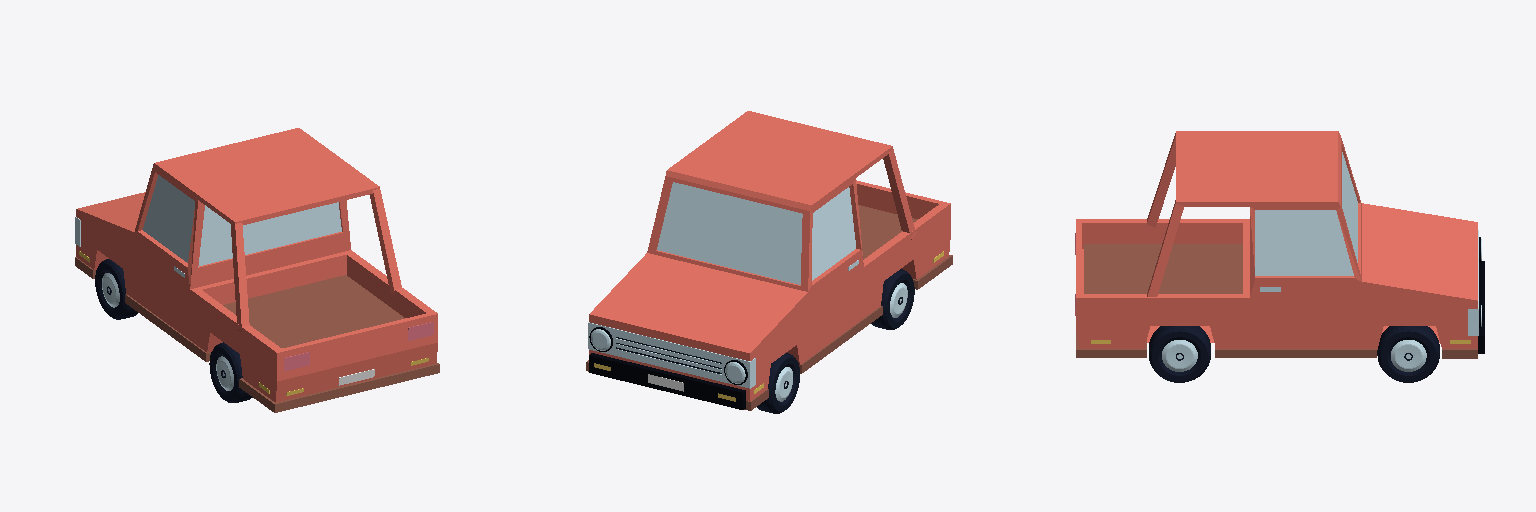
Rendered from lowpoly_car.obj.
3 renders of one model, left to right at view 1: azimuth 30°, elevation 25°; view 2: azimuth 150°, elevation 25°; view 3: azimuth 270°, elevation 25°, orthographic.
Parts seen in each view (by area): view 1: Cube_2_3_Mesh.030, Cube_Mesh.005, Cube_2_3.004_Mesh.041, Cube_2_3.001_Mesh.038, Cube_1_Mesh.004, Cube_1_2_Mesh.028, Cube_2_2_Mesh.027, Cylinder_1_2_Mesh.029, Cylinder_7_Mesh.006, Cube_2_Mesh.003; view 2: Cube_2_3_Mesh.030, Cube_2_3.002_Mesh.039, Cube_3_2_Mesh.026, Cube_4_Mesh.022, Cube_2_3.001_Mesh.038, Cube_Mesh.005, Cylinder_1_2_Mesh.029, Cylinder_7_Mesh.006, Cube_1_2_Mesh.028, Cube_2_Mesh.003; view 3: Cube_2_3_Mesh.030, Cube_Mesh.005, Cube_2_3.003_Mesh.040, Cylinder_5_Mesh.008, Cylinder_6_Mesh.007, Cube_2_Mesh.003, Cube_2_2_Mesh.027, Cube_2_3.002_Mesh.039, Cylinder_5.001_Mesh.043, Cylinder_6.001_Mesh.044, Cube_1_2_Mesh.028, Cube_1_Mesh.004.
Part boxes in pixels (x1,y1,x2,y2): Cube_2_3_Mesh.030: (76, 128, 437, 402); Cube_Mesh.005: (223, 275, 404, 347); Cube_2_3.004_Mesh.041: (198, 202, 341, 266); Cube_2_3.001_Mesh.038: (143, 175, 194, 262); Cube_1_Mesh.004: (239, 363, 439, 412); Cube_1_2_Mesh.028: (231, 222, 249, 331); Cube_2_2_Mesh.027: (370, 189, 401, 293); Cylinder_1_2_Mesh.029: (209, 342, 252, 402); Cylinder_7_Mesh.006: (95, 259, 137, 319); Cube_2_Mesh.003: (125, 294, 210, 361); Cube_2_3_Mesh.030: (589, 111, 950, 401); Cube_2_3.002_Mesh.039: (657, 182, 802, 284); Cube_3_2_Mesh.026: (588, 322, 755, 388); Cube_4_Mesh.022: (589, 353, 745, 409); Cube_2_3.001_Mesh.038: (812, 187, 855, 280); Cube_Mesh.005: (858, 205, 917, 259); Cylinder_1_2_Mesh.029: (871, 269, 914, 329); Cylinder_7_Mesh.006: (757, 353, 799, 413); Cube_1_2_Mesh.028: (883, 148, 915, 239); Cube_2_Mesh.003: (799, 306, 882, 373); Cube_2_3_Mesh.030: (1076, 131, 1477, 349); Cube_Mesh.005: (1084, 244, 1242, 293); Cube_2_3.003_Mesh.040: (1255, 210, 1353, 275); Cylinder_5_Mesh.008: (1149, 326, 1210, 382); Cylinder_6_Mesh.007: (1377, 326, 1439, 382); Cube_2_Mesh.003: (1215, 347, 1376, 357); Cube_2_2_Mesh.027: (1147, 200, 1183, 296); Cube_2_3.002_Mesh.039: (1342, 152, 1357, 262); Cylinder_5.001_Mesh.043: (1162, 340, 1197, 371); Cylinder_6.001_Mesh.044: (1391, 340, 1426, 371); Cube_1_2_Mesh.028: (1147, 133, 1175, 227); Cube_1_Mesh.004: (1076, 332, 1146, 357).
Size of the model in its own units: 0.8372 by 0.8614 by 1.79.